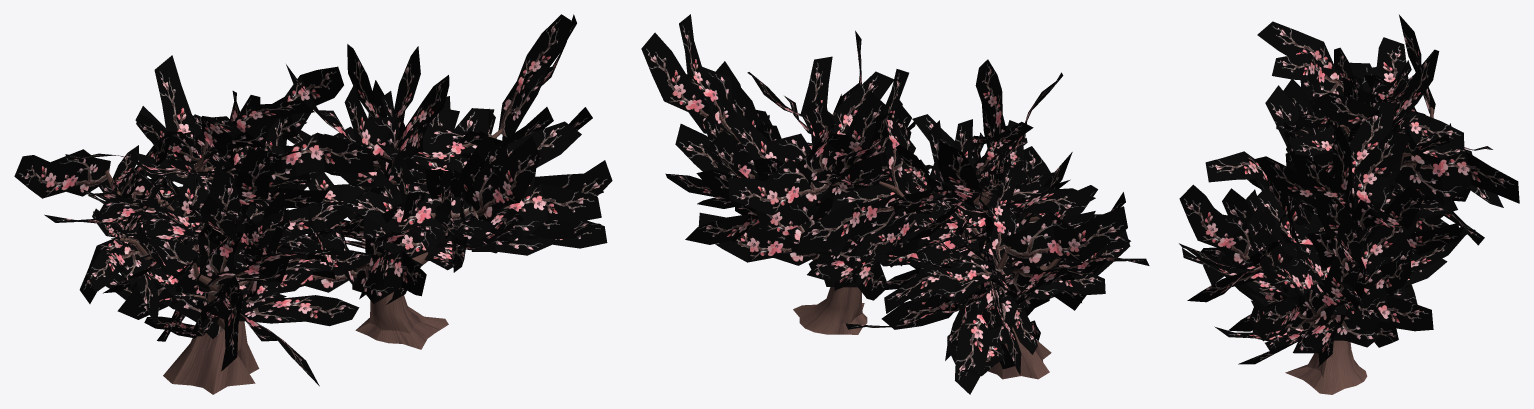
Rendered from Arbol.fbx.
3 views of the same model, side by side, from view 1: azimuth 30°, elevation 25°; view 2: azimuth 150°, elevation 25°; view 3: azimuth 270°, elevation 25° (orthographic). The views are drawn at different scales.
Parts seen in each view (by area): view 1: Arbol.002, Arbol.002|rama01|Dupli|108, Arbol|rama01|Dupli|40, Arbol.002|rama01|Dupli|167, Arbol|rama01|Dupli|5, Arbol|rama01|Dupli|39, Arbol, Arbol|rama01|Dupli|38, Arbol.002|rama01|Dupli|56, Arbol.002|rama01|Dupli|68, Arbol.002|rama01|Dupli|46, Arbol.002|rama01|Dupli|117 (+56 smaller); view 2: Arbol.002|rama01|Dupli|167, Arbol|rama01|Dupli|3, Arbol.002|rama01|Dupli|113, Arbol|rama01|Dupli|12, Arbol.002|rama01|Dupli|171, Arbol, Arbol|rama01|Dupli|51, Arbol|rama01|Dupli|5, Arbol|rama01|Dupli|11, Arbol|rama01|Dupli|9, Arbol.002, Arbol.002|rama01|Dupli|44 (+47 smaller); view 3: Arbol.002|rama01|Dupli|113, Arbol|rama01|Dupli|40, Arbol|rama01|Dupli|13, Arbol, Arbol|rama01|Dupli|58, Arbol|rama01|Dupli|69, Arbol.002|rama01|Dupli|17, Arbol.002|rama01|Dupli|193, Arbol|rama01|Dupli|11, Arbol|rama01|Dupli|17, Arbol|rama01|Dupli|5, Arbol.002|rama01|Dupli|117 (+49 smaller).
Boxes of the visible parts, x1,y1,x2,y2 form: Arbol.002: (105,145,287,394); Arbol.002|rama01|Dupli|108: (271,132,374,189); Arbol|rama01|Dupli|40: (464,136,540,221); Arbol.002|rama01|Dupli|167: (14,149,110,198); Arbol|rama01|Dupli|5: (498,14,571,137); Arbol|rama01|Dupli|39: (342,177,472,233); Arbol: (355,128,502,349); Arbol|rama01|Dupli|38: (465,184,601,238); Arbol.002|rama01|Dupli|56: (198,166,243,296); Arbol.002|rama01|Dupli|68: (239,295,359,326); Arbol.002|rama01|Dupli|46: (140,232,223,338); Arbol.002|rama01|Dupli|117: (272,66,343,140); Arbol.002|rama01|Dupli|167: (1002,206,1127,267); Arbol|rama01|Dupli|3: (641,32,736,137); Arbol.002|rama01|Dupli|113: (796,193,901,255); Arbol|rama01|Dupli|12: (728,159,829,215); Arbol.002|rama01|Dupli|171: (955,285,1018,394); Arbol: (733,133,867,334); Arbol|rama01|Dupli|51: (698,212,817,265); Arbol|rama01|Dupli|5: (679,14,734,137); Arbol|rama01|Dupli|11: (731,110,811,174); Arbol|rama01|Dupli|9: (812,91,885,171); Arbol.002: (879,160,1060,379); Arbol.002|rama01|Dupli|44: (927,141,982,207); Arbol.002|rama01|Dupli|113: (1394,150,1519,205); Arbol|rama01|Dupli|40: (1179,184,1258,266); Arbol|rama01|Dupli|13: (1353,131,1410,232); Arbol: (1258,263,1367,394); Arbol|rama01|Dupli|58: (1326,294,1433,347); Arbol|rama01|Dupli|69: (1298,256,1358,323); Arbol.002|rama01|Dupli|17: (1272,53,1343,104); Arbol.002|rama01|Dupli|193: (1257,21,1355,97); Arbol|rama01|Dupli|11: (1351,185,1423,231); Arbol|rama01|Dupli|17: (1349,102,1396,197); Arbol|rama01|Dupli|5: (1307,195,1358,268); Arbol.002|rama01|Dupli|117: (1312,92,1404,152).
Bounding box in the file's own units: 1678 × 857 × 1012.
2 materials, 2 textured.
